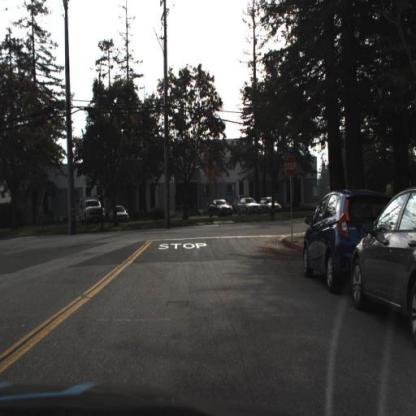car: (353, 187, 416, 346), (303, 186, 357, 288), (80, 197, 107, 228), (208, 196, 235, 220), (258, 195, 282, 218), (238, 196, 262, 216), (112, 204, 130, 228)
